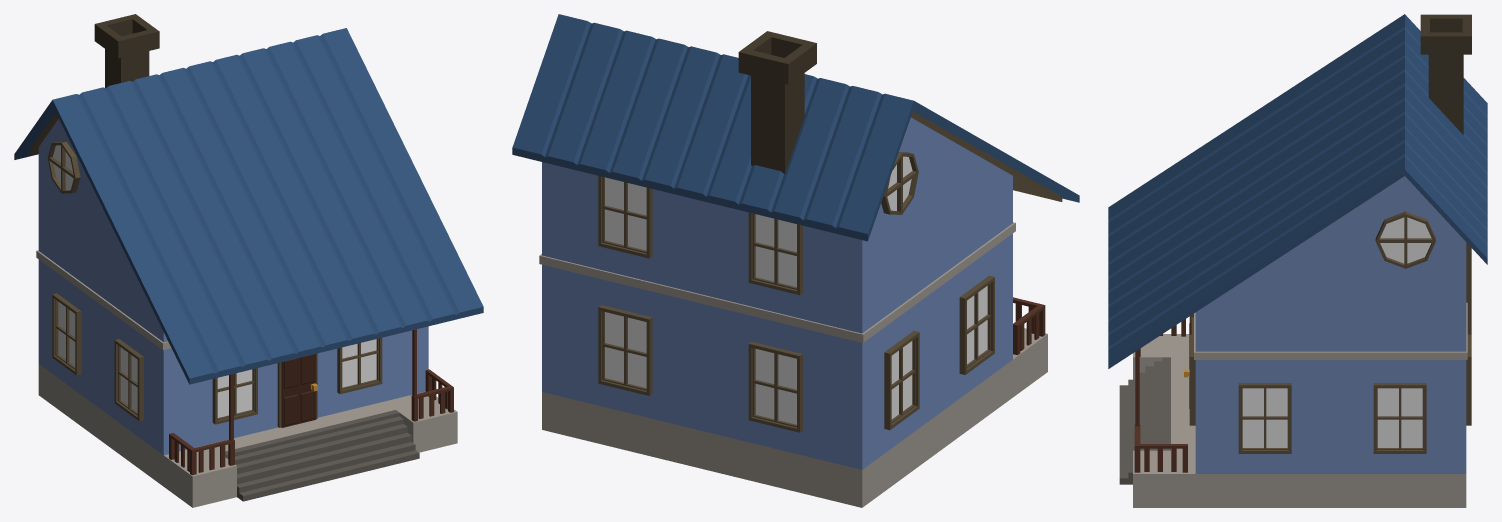
Rendered from SM_house_02_B.gltf.
3 renders of one model, left to right at view 1: azimuth 30°, elevation 25°; view 2: azimuth 150°, elevation 25°; view 3: azimuth 270°, elevation 25°, orthographic. The views are drawn at different scales.
Visible parts, largest first — view 1: SM_house_02_B; view 2: SM_house_02_B; view 3: SM_house_02_B.
Part boxes in pixels (<box>): SM_house_02_B: <box>14,14,483,507</box>; SM_house_02_B: <box>512,14,1079,507</box>; SM_house_02_B: <box>1108,14,1487,507</box>.
Size of the model in its own units: 2.97 by 3.42 by 3.06.
